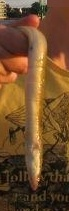Anguilla anguilla: (20, 20, 49, 191)
